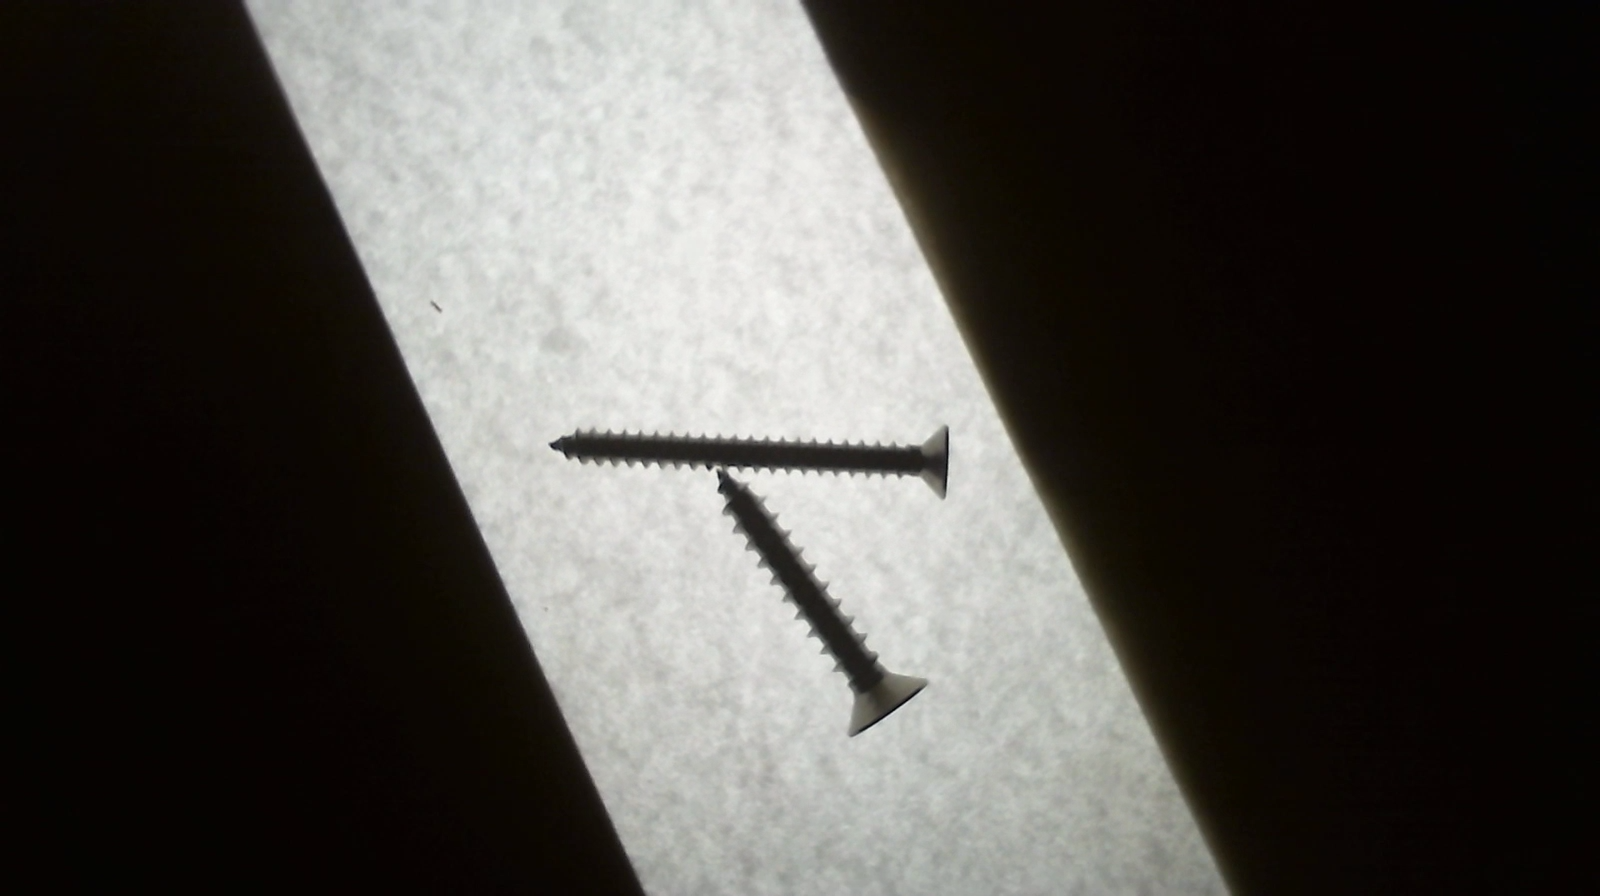S001: (712, 471, 933, 740)
S002: (544, 423, 967, 504)
